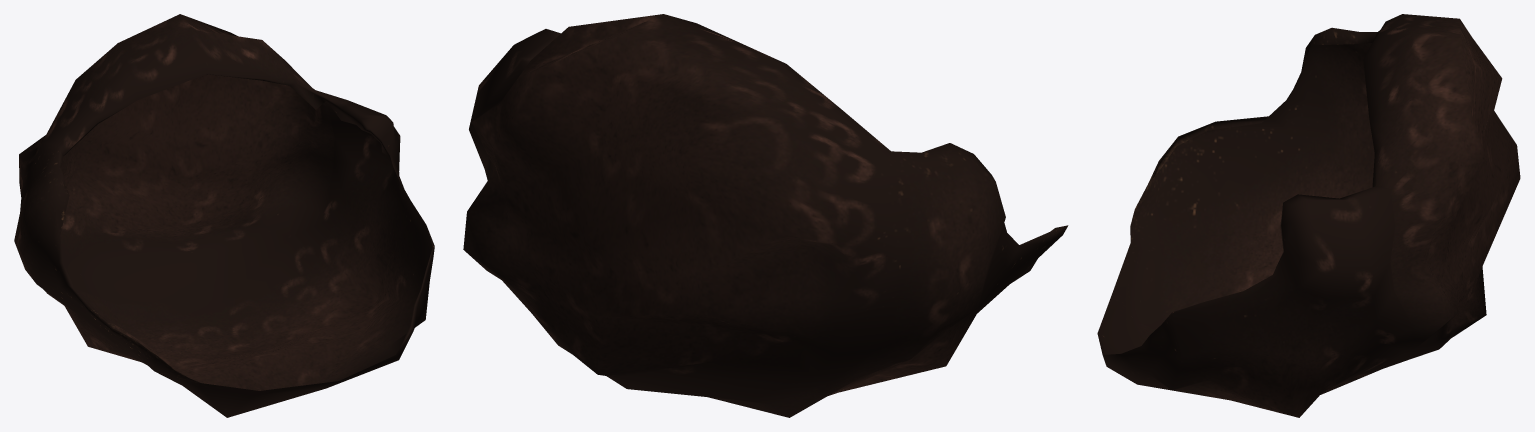
The model's file is hair_francisco.dae.
3 renders of one model, left to right at view 1: azimuth 30°, elevation 25°; view 2: azimuth 150°, elevation 25°; view 3: azimuth 270°, elevation 25°, orthographic. The views are drawn at different scales.
Parts seen in each view (by area): view 1: hair; view 2: hair; view 3: hair.
Part boxes in pixels (bbox=[...]): hair: bbox=[14, 14, 434, 417]; hair: bbox=[463, 14, 1068, 417]; hair: bbox=[1097, 14, 1520, 417].
Size of the model in its own units: 90.61 by 69.73 by 77.65.
1 material, 1 textured.
